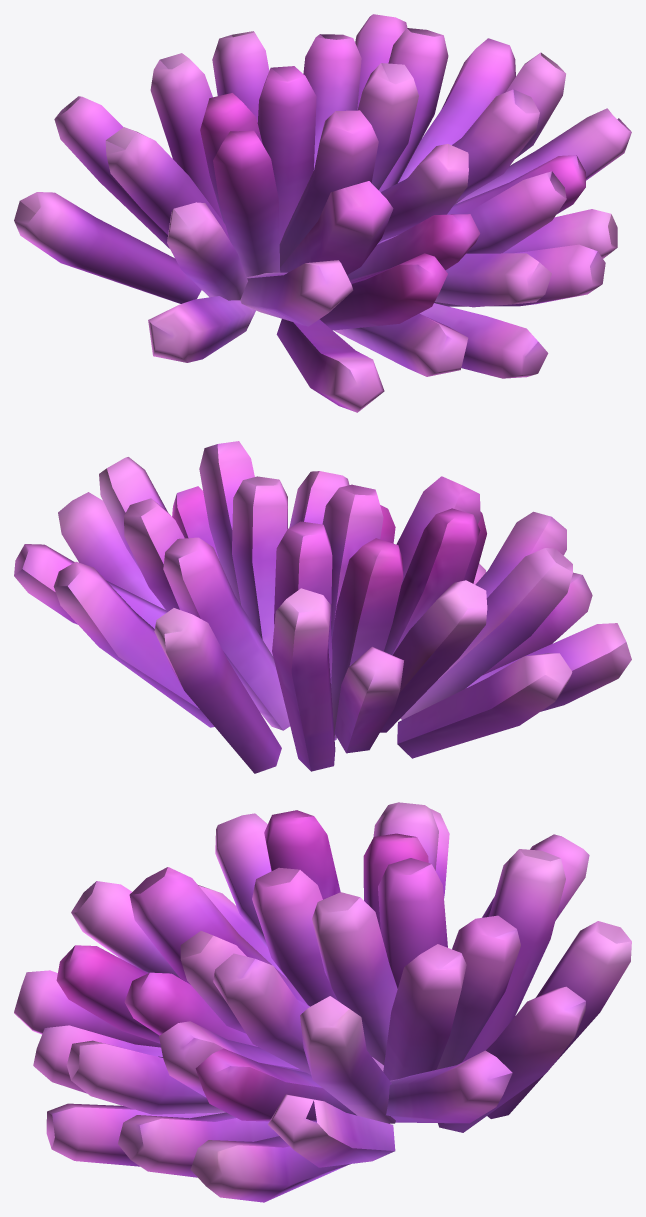
Rendered from Coral_1.glb.
The picture shows the model from 3 angles, top to bottom: view 1: azimuth 30°, elevation 25°; view 2: azimuth 150°, elevation 25°; view 3: azimuth 270°, elevation 25°; orthographic projection. The views are drawn at different scales.
Parts seen in each view (by area): view 1: node_id63; view 2: node_id63; view 3: node_id63.
Part boxes in pixels (box(x1,y1,x2,y2)): node_id63: box(14, 14, 631, 412); node_id63: box(14, 441, 631, 773); node_id63: box(14, 802, 631, 1202).
Size of the model in its own units: 6.32 by 2.54 by 5.39.
1 material, 1 textured.
